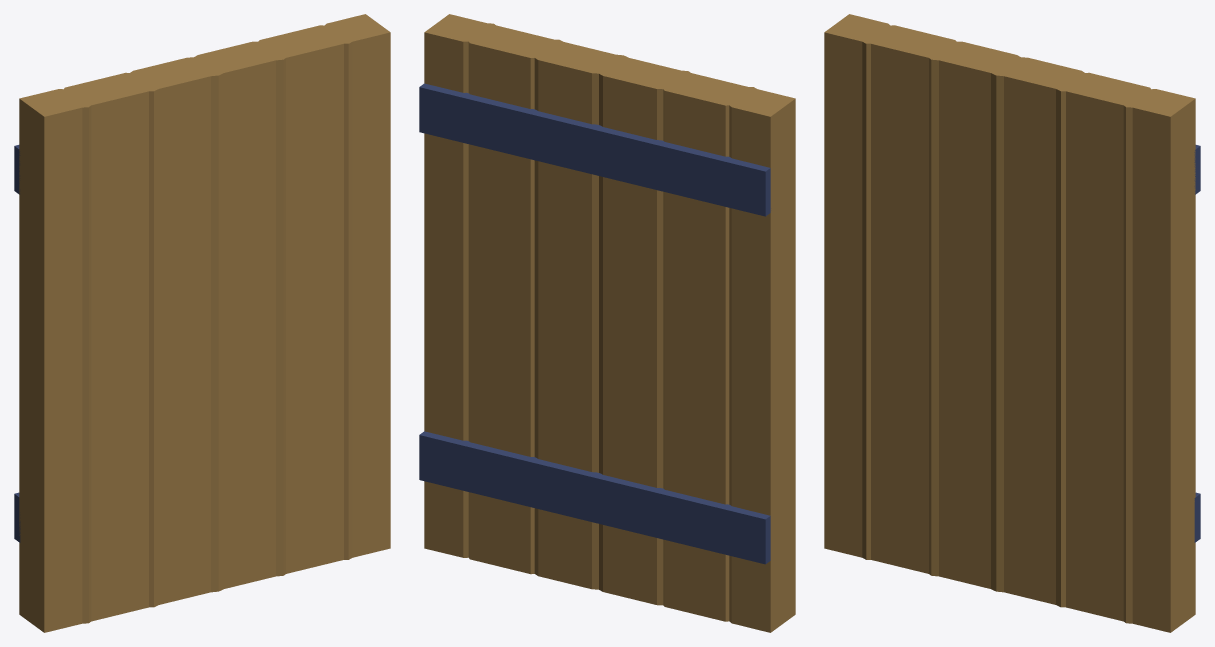
File: DoorPlain.fbx
3 renders of one model, left to right at view 1: azimuth 30°, elevation 25°; view 2: azimuth 150°, elevation 25°; view 3: azimuth 330°, elevation 25°, orthographic.
Parts seen in each view (by area): view 1: DoorPlain; view 2: DoorPlain; view 3: DoorPlain.
Boxes of the visible parts, left/top/right/bottom form: DoorPlain: left=14, top=14, right=390, bottom=632; DoorPlain: left=419, top=14, right=795, bottom=632; DoorPlain: left=824, top=14, right=1200, bottom=632.
Bounding box in the file's own units: 1 × 1.42 × 0.1567.
